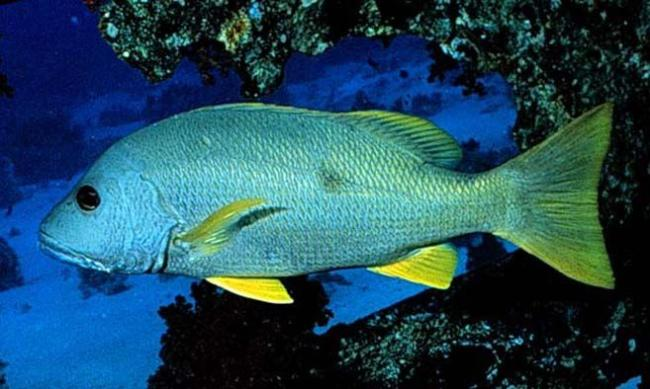fish: (37, 103, 615, 305)
